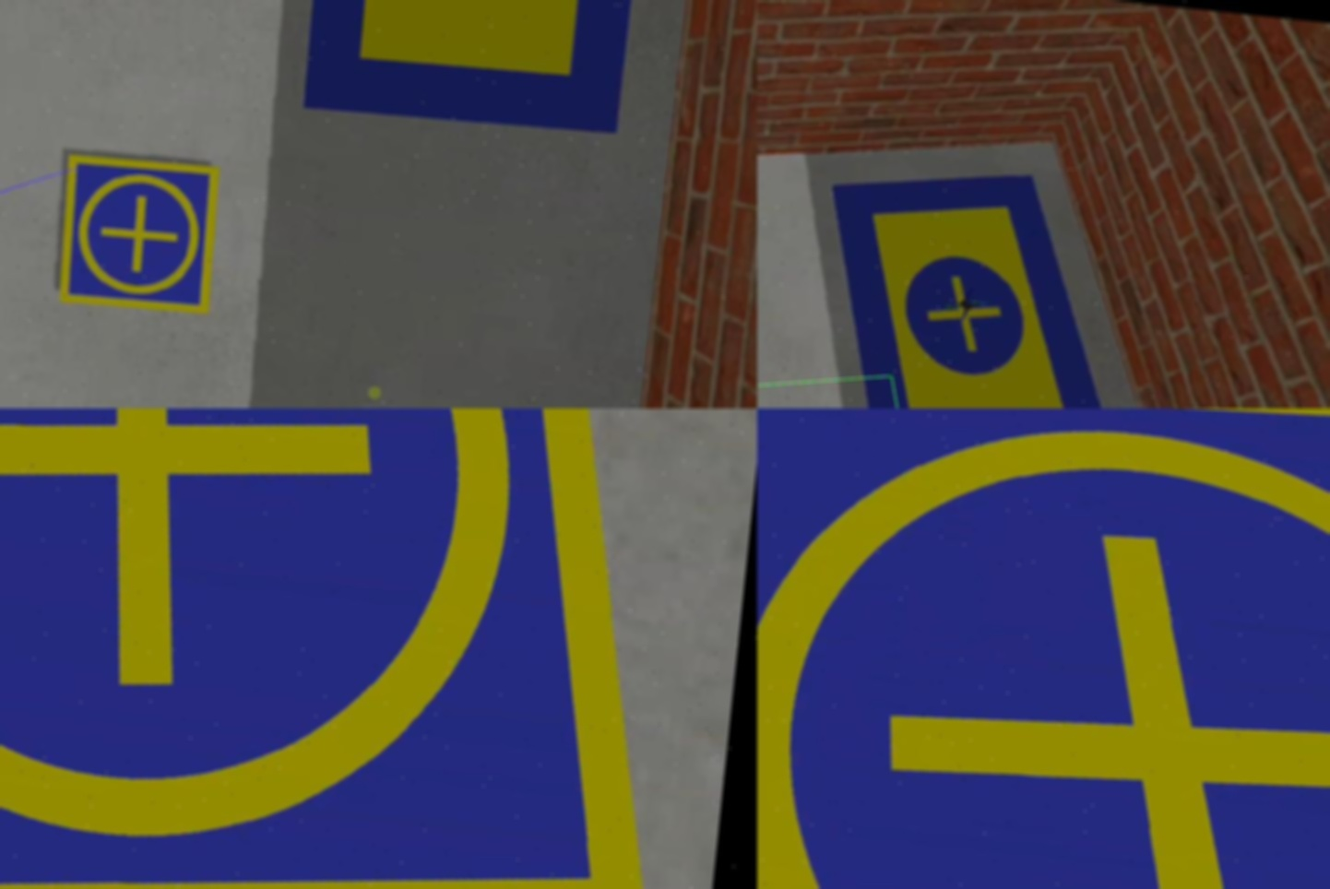large_base: (799, 155, 1146, 409), (296, 1, 649, 143)
small_base: (1, 409, 740, 889), (757, 409, 1330, 889), (53, 153, 226, 321)
